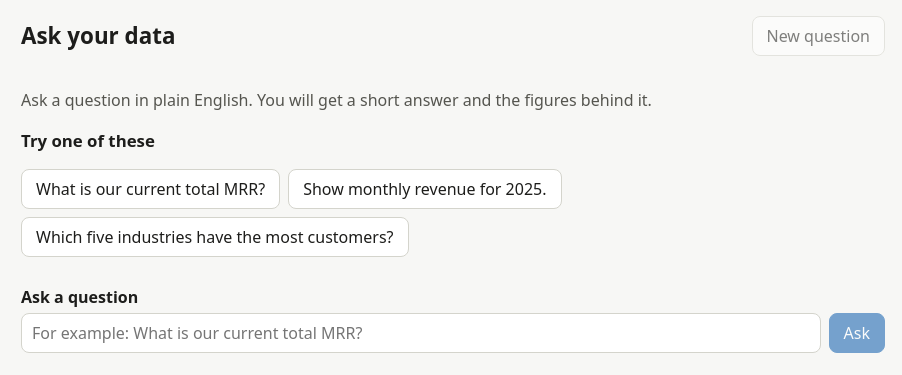
Test: asking › explains a refusal in plain words
In the field labelled "Ask a question": x=421, y=333 [21, 313, 821, 353], type "Mark all overdue invoices as paid."
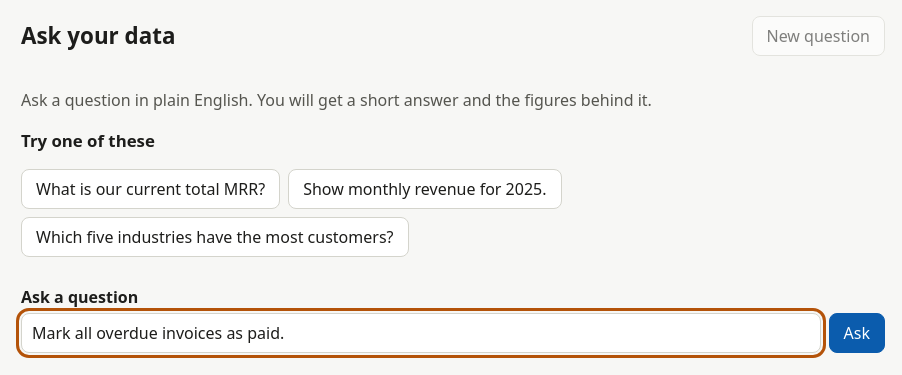
Click the button "Ask": x=857, y=333 [829, 313, 885, 353]
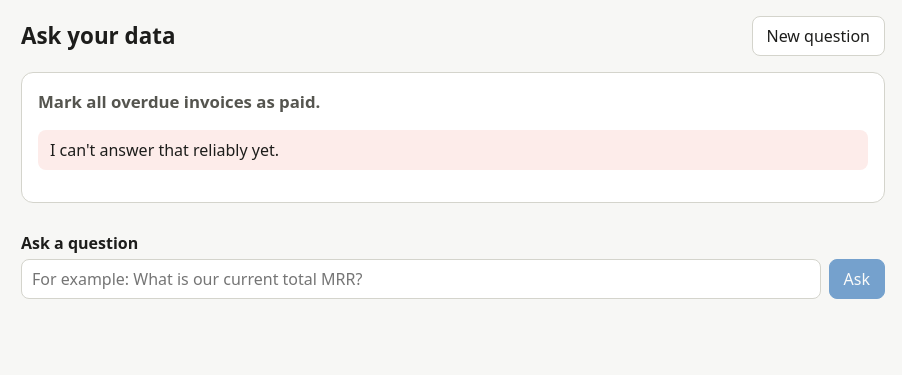
Now the text "I can't answer that reliably yet." is shown, box [38, 130, 868, 170]
